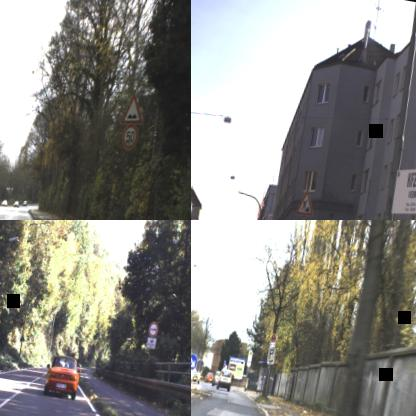CONSTRUCTION: (294, 185, 317, 217)
keep right: (191, 352, 198, 371)
no overtaking (trucks): (146, 320, 158, 338)
speed limit 50: (119, 122, 140, 151)
uneven road: (120, 90, 148, 128)
